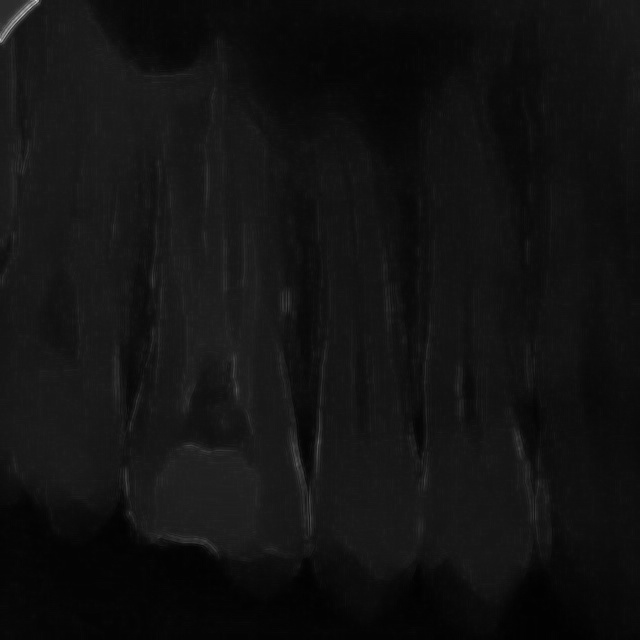Class 0- No endodontic treatment: (98, 8, 334, 364)
